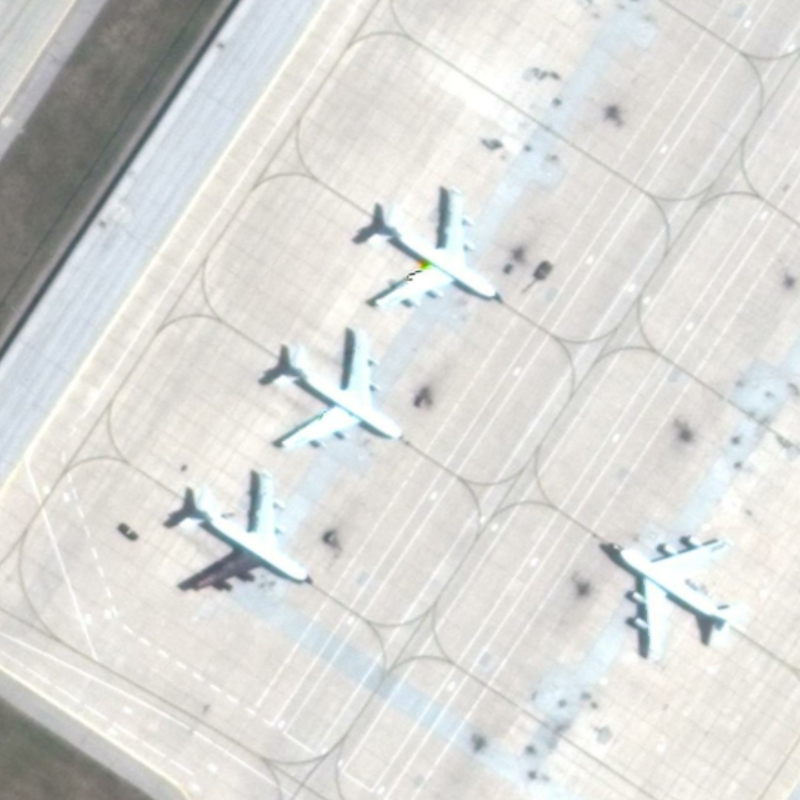A11: (350, 182, 510, 320), (162, 463, 321, 601), (593, 524, 744, 662), (261, 329, 410, 456)
